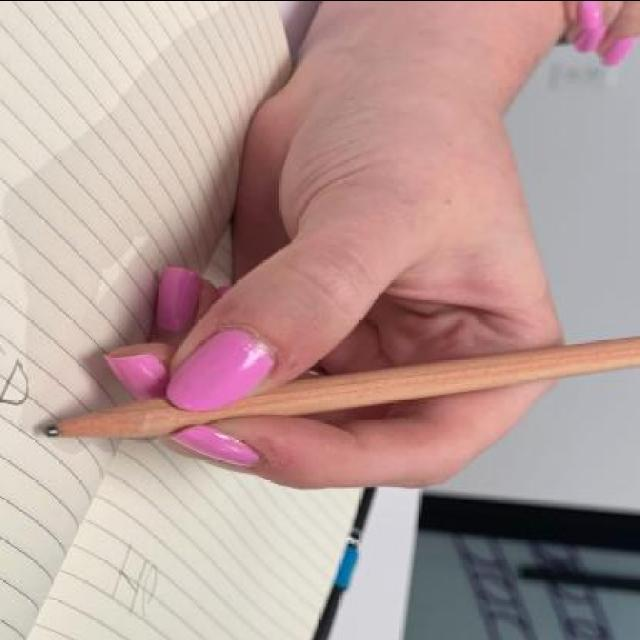pencil: (38, 402, 154, 456)
